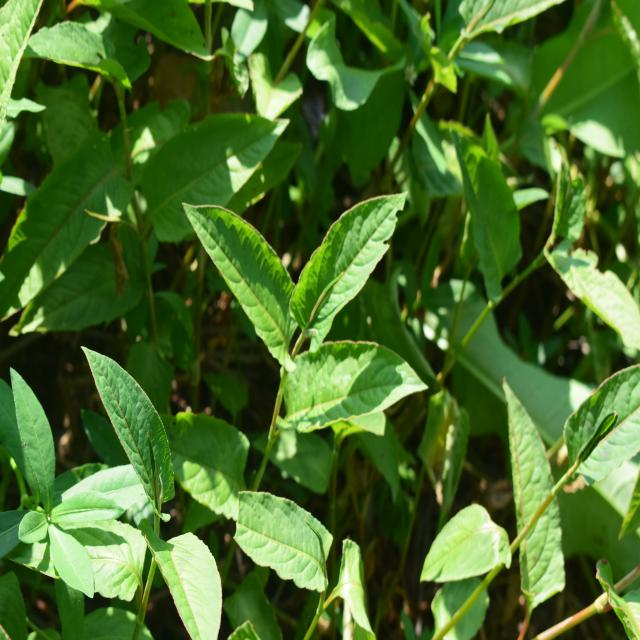Chinese_knotweed: (193, 193, 425, 453), (84, 348, 228, 627), (221, 483, 377, 617)
